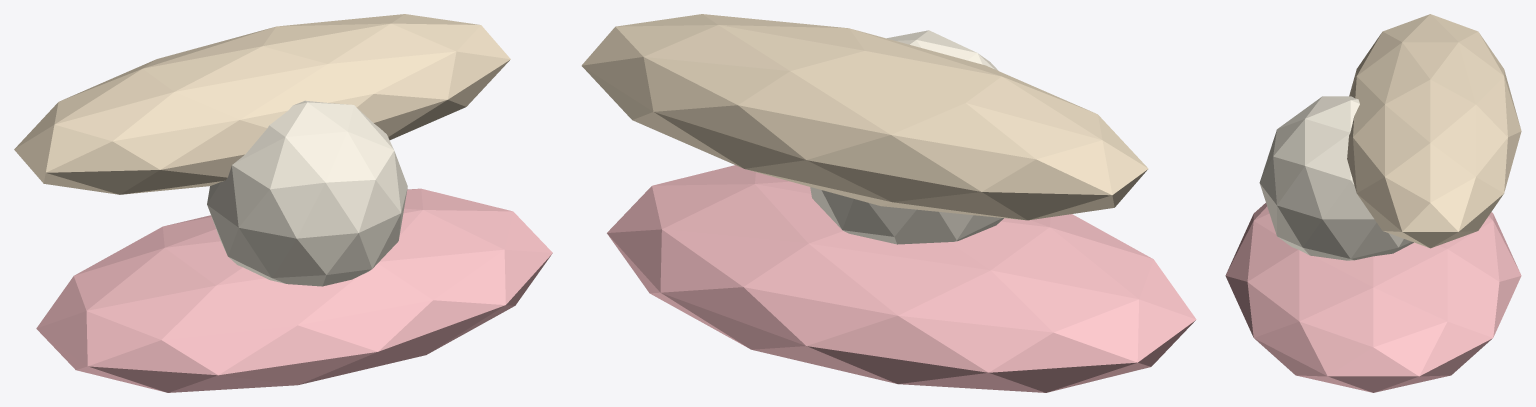
File: pearl-clam.glb
The picture shows the model from 3 angles, left to right: view 1: azimuth 30°, elevation 25°; view 2: azimuth 150°, elevation 25°; view 3: azimuth 270°, elevation 25°; orthographic projection. The views are drawn at different scales.
Parts seen in each view (by area): view 1: bottom shell, top shell, pearl; view 2: bottom shell, top shell, pearl; view 3: bottom shell, top shell, pearl.
Part boxes in pixels (box(x1,y1,x2,y2)): bottom shell: box(36, 188, 552, 392); top shell: box(14, 14, 510, 194); pearl: box(207, 100, 407, 286); bottom shell: box(607, 165, 1196, 392); top shell: box(581, 14, 1148, 220); pearl: box(810, 30, 1003, 244); bottom shell: box(1225, 203, 1521, 392); top shell: box(1347, 14, 1521, 248); pearl: box(1259, 96, 1413, 260).
Bounding box in the file's own units: 0.8369 × 0.48 × 0.52.
